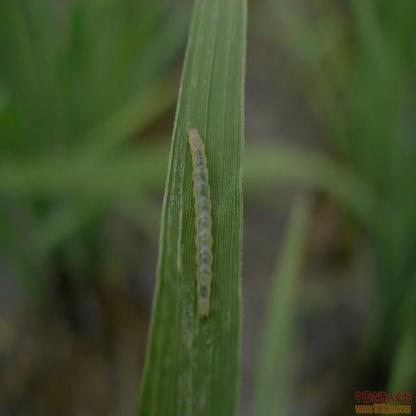leaf-folder: (180, 116, 227, 328)
